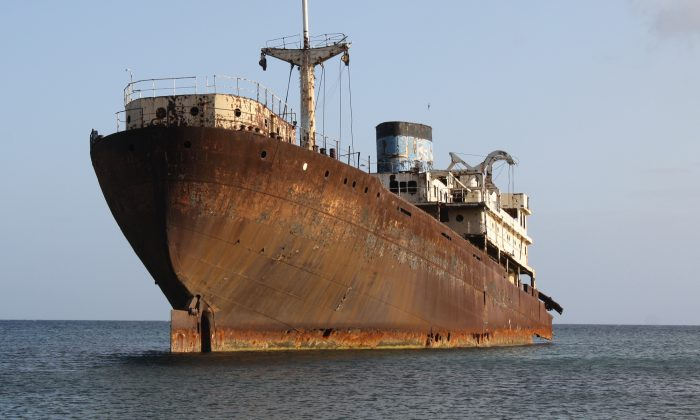rust: (104, 130, 349, 294), (368, 205, 482, 324)
